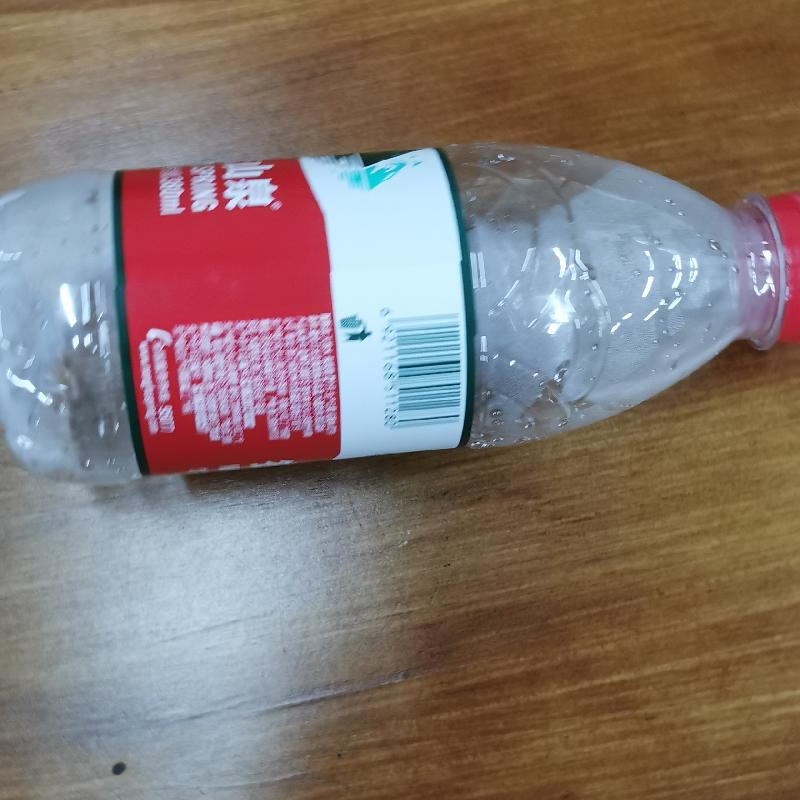bottles: (4, 135, 799, 487)
